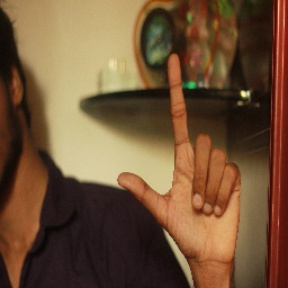L: (116, 52, 248, 258)
